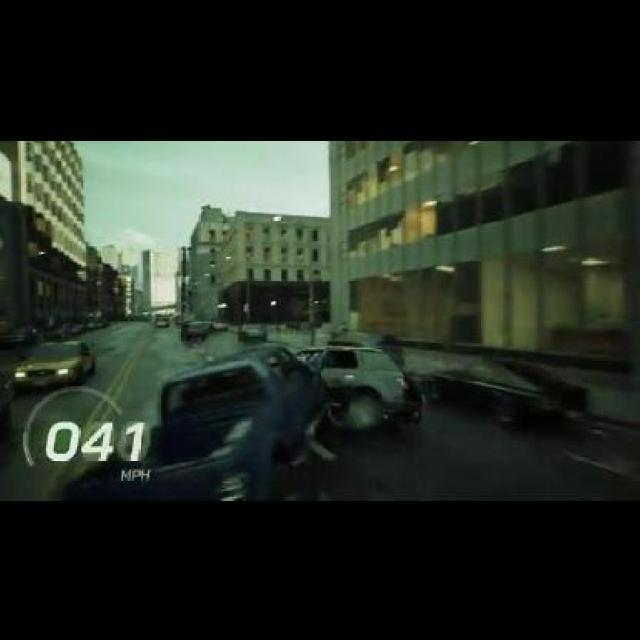accident: (49, 336, 422, 498)
